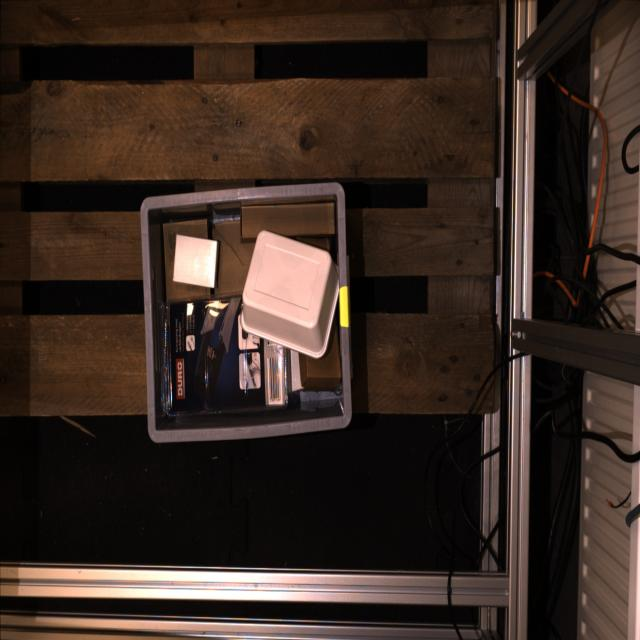CardboardBox: (163, 219, 210, 299), (240, 203, 336, 242), (213, 220, 256, 298), (299, 313, 341, 391), (174, 234, 218, 286), (288, 349, 303, 394)
ItemPackaging: (166, 298, 286, 414)
PlasticContainer: (239, 230, 338, 359)
